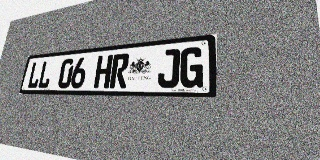0: (57, 58, 75, 88)
6: (70, 57, 88, 88)
G: (179, 46, 204, 88)
H: (93, 55, 113, 88)
J: (157, 48, 180, 88)
L: (37, 60, 54, 88), (27, 61, 43, 88)
R: (109, 53, 130, 88)
